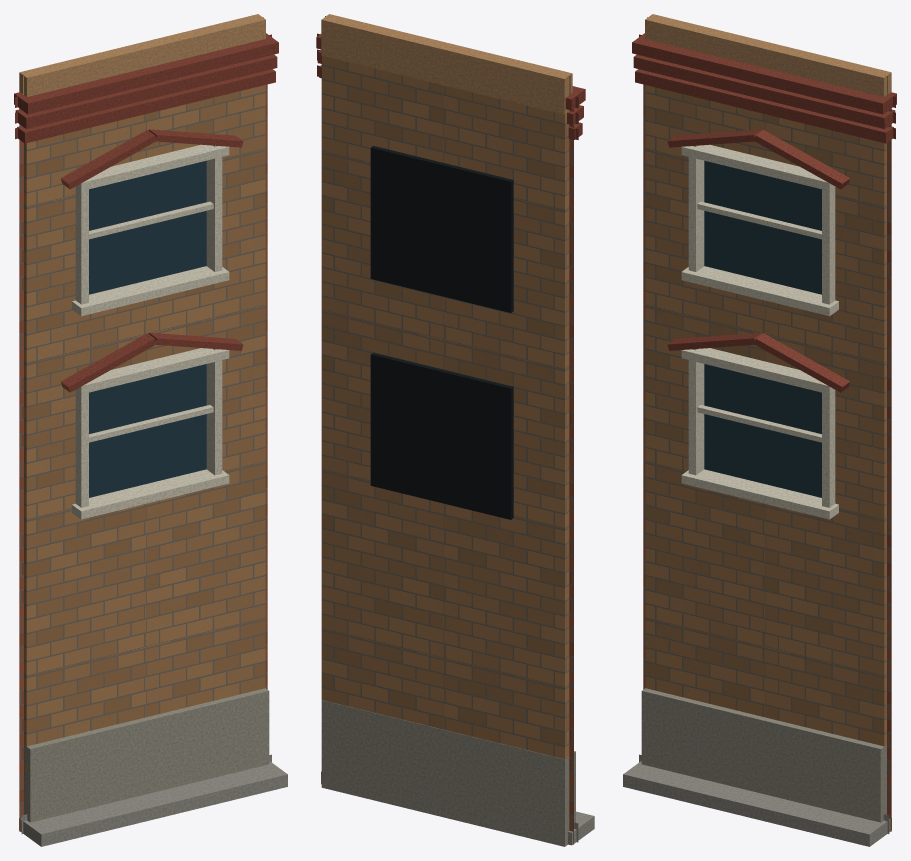
File: VICT19_lod2.glb
The picture shows the model from 3 angles, left to right: view 1: azimuth 30°, elevation 25°; view 2: azimuth 150°, elevation 25°; view 3: azimuth 330°, elevation 25°; orthographic projection.
Parts seen in each view (by area): view 1: VICT19_FRONT_LOD2; view 2: VICT19_FRONT_LOD2; view 3: VICT19_FRONT_LOD2.
Boxes of the visible parts, bbox=[...] form: VICT19_FRONT_LOD2: bbox=[14, 14, 287, 846]; VICT19_FRONT_LOD2: bbox=[316, 14, 594, 846]; VICT19_FRONT_LOD2: bbox=[623, 14, 896, 846].
Size of the model in its own units: 3.44 by 9.66 by 0.65.
10 materials, 8 textured.
